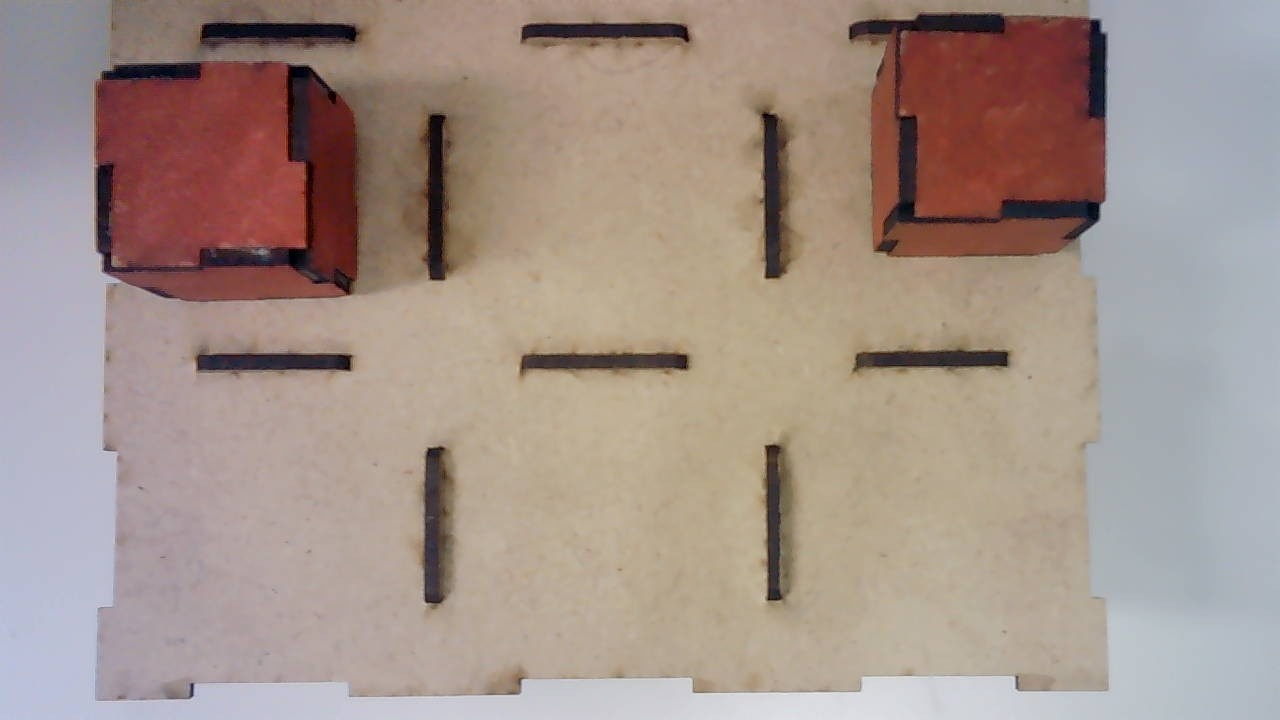red box: (90, 63, 365, 301), (870, 13, 1105, 261)
